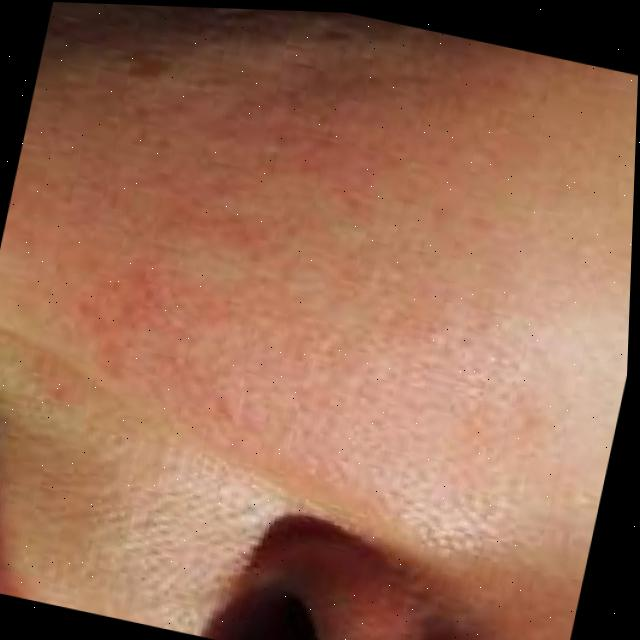Rosacea: (69, 6, 486, 444)
